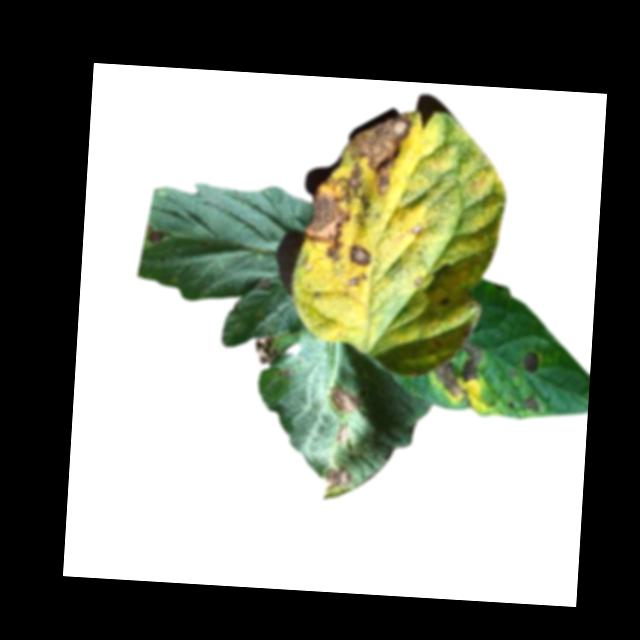Early_blight: (302, 159, 373, 264), (345, 110, 412, 197), (431, 339, 484, 402), (253, 334, 285, 366), (329, 385, 360, 415), (324, 468, 351, 492), (522, 350, 544, 378), (348, 245, 373, 266), (523, 394, 543, 411), (146, 228, 165, 245)
